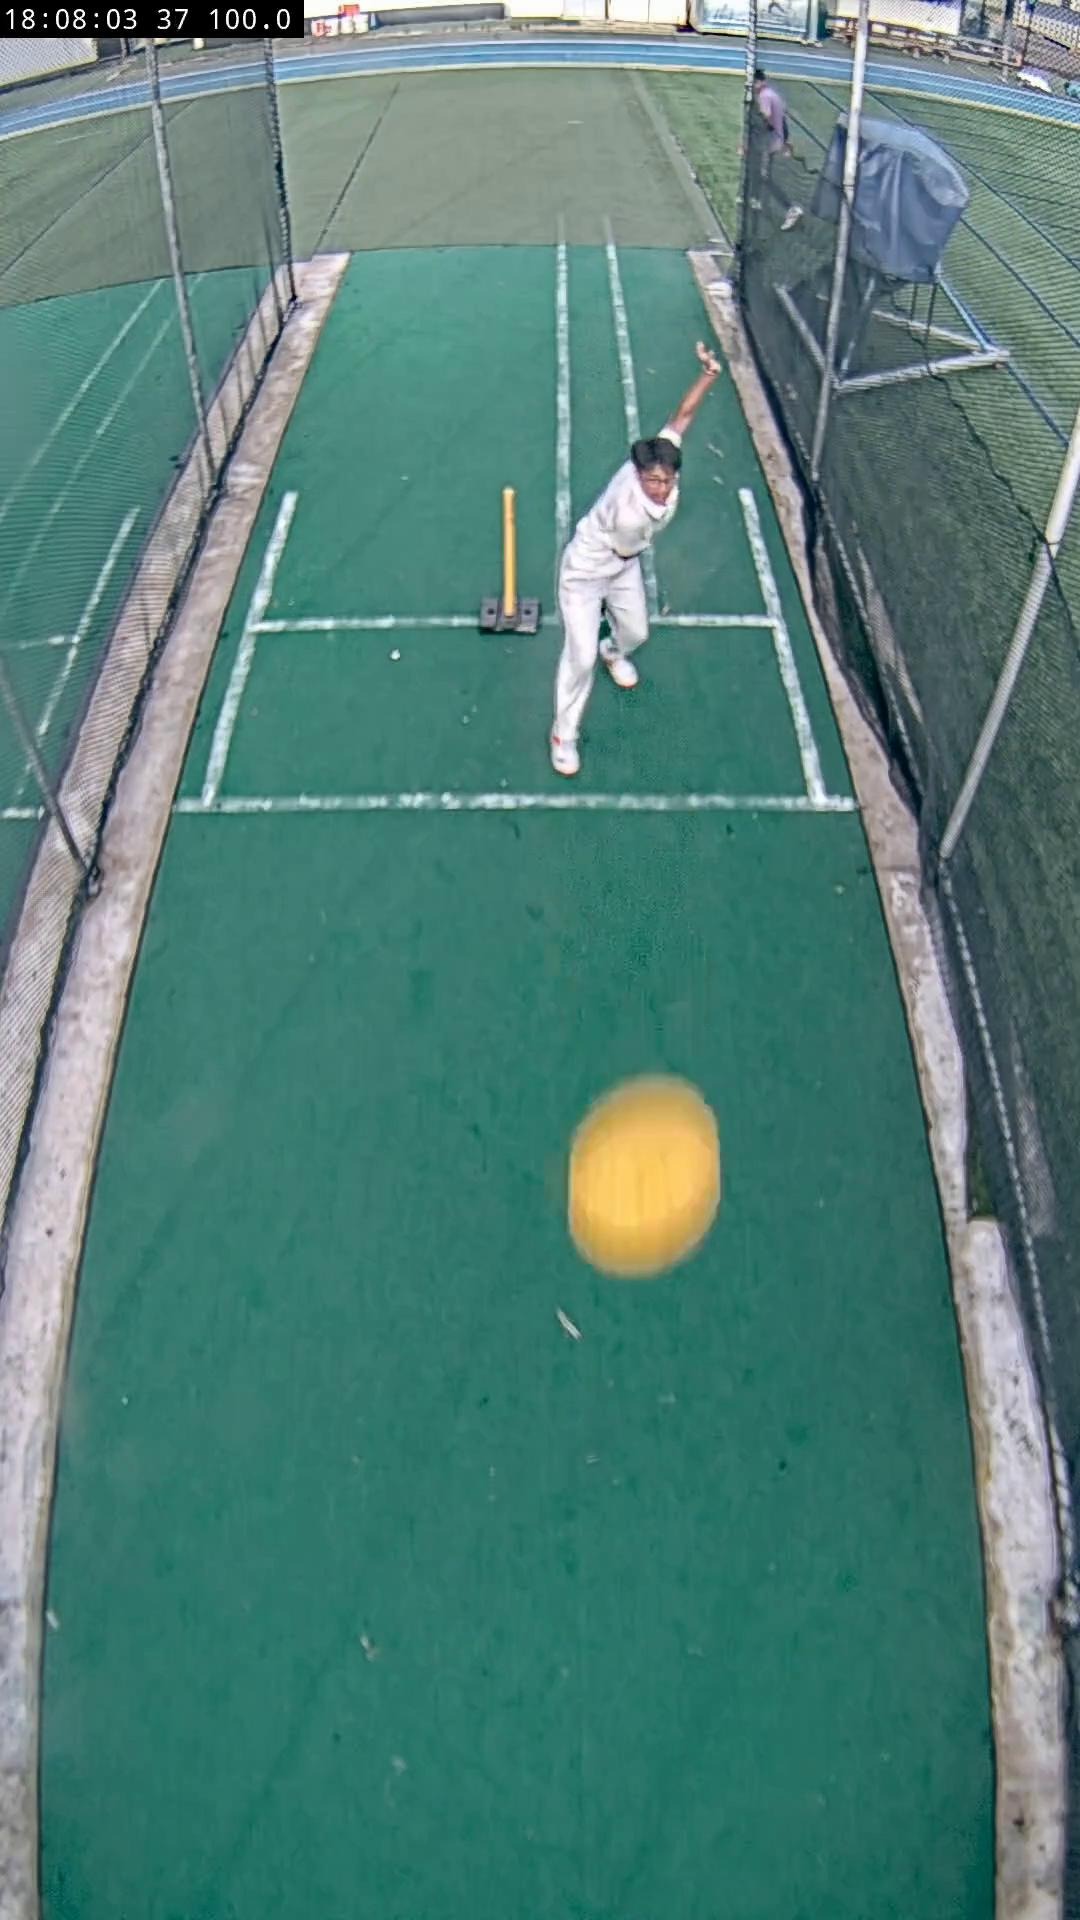ball: (566, 1072, 720, 1279)
stumps: (476, 488, 541, 634)
